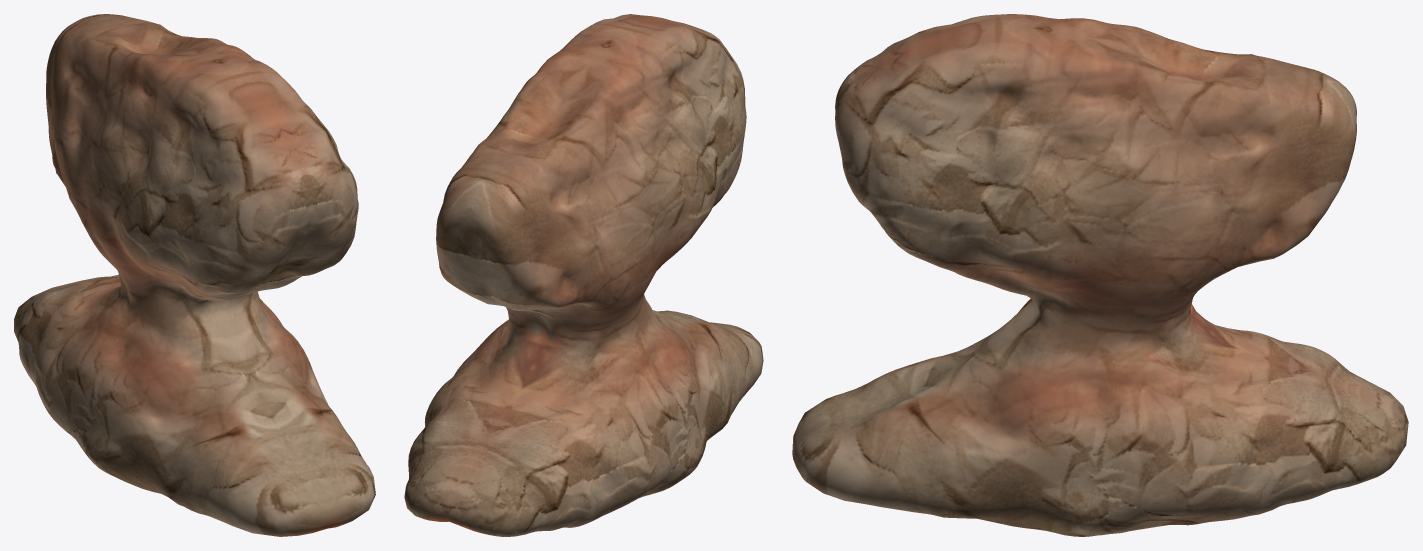
File: island1.obj
The picture shows the model from 3 angles, left to right: view 1: azimuth 30°, elevation 25°; view 2: azimuth 150°, elevation 25°; view 3: azimuth 270°, elevation 25°; orthographic projection. The views are drawn at different scales.
Parts seen in each view (by area): view 1: island1; view 2: island1; view 3: island1.
Boxes of the visible parts, x1,y1,x2,y2 form: island1: [14, 14, 375, 536]; island1: [404, 14, 763, 536]; island1: [792, 14, 1408, 536].
Size of the model in its own units: 2.81 by 5.39 by 6.19.
1 material, 1 textured.
